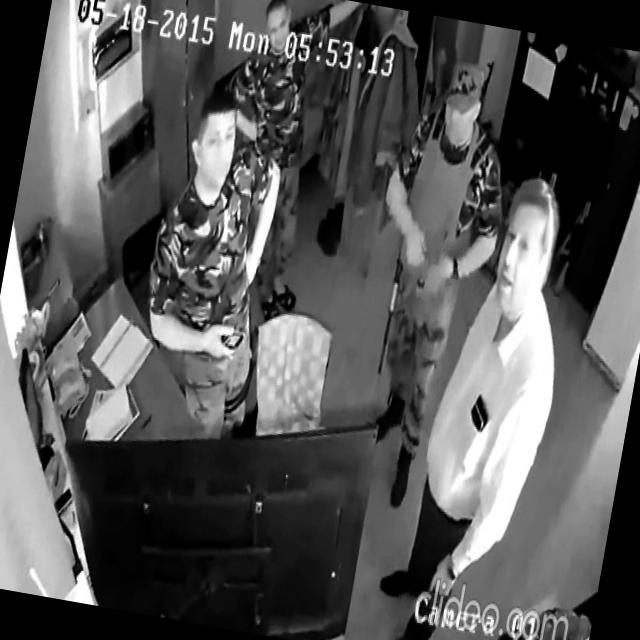gun: (546, 147, 608, 306), (373, 240, 410, 382), (474, 59, 506, 134)
person: (366, 158, 593, 640), (121, 78, 302, 442), (188, 0, 365, 325)
person with a gun: (332, 52, 528, 520)
